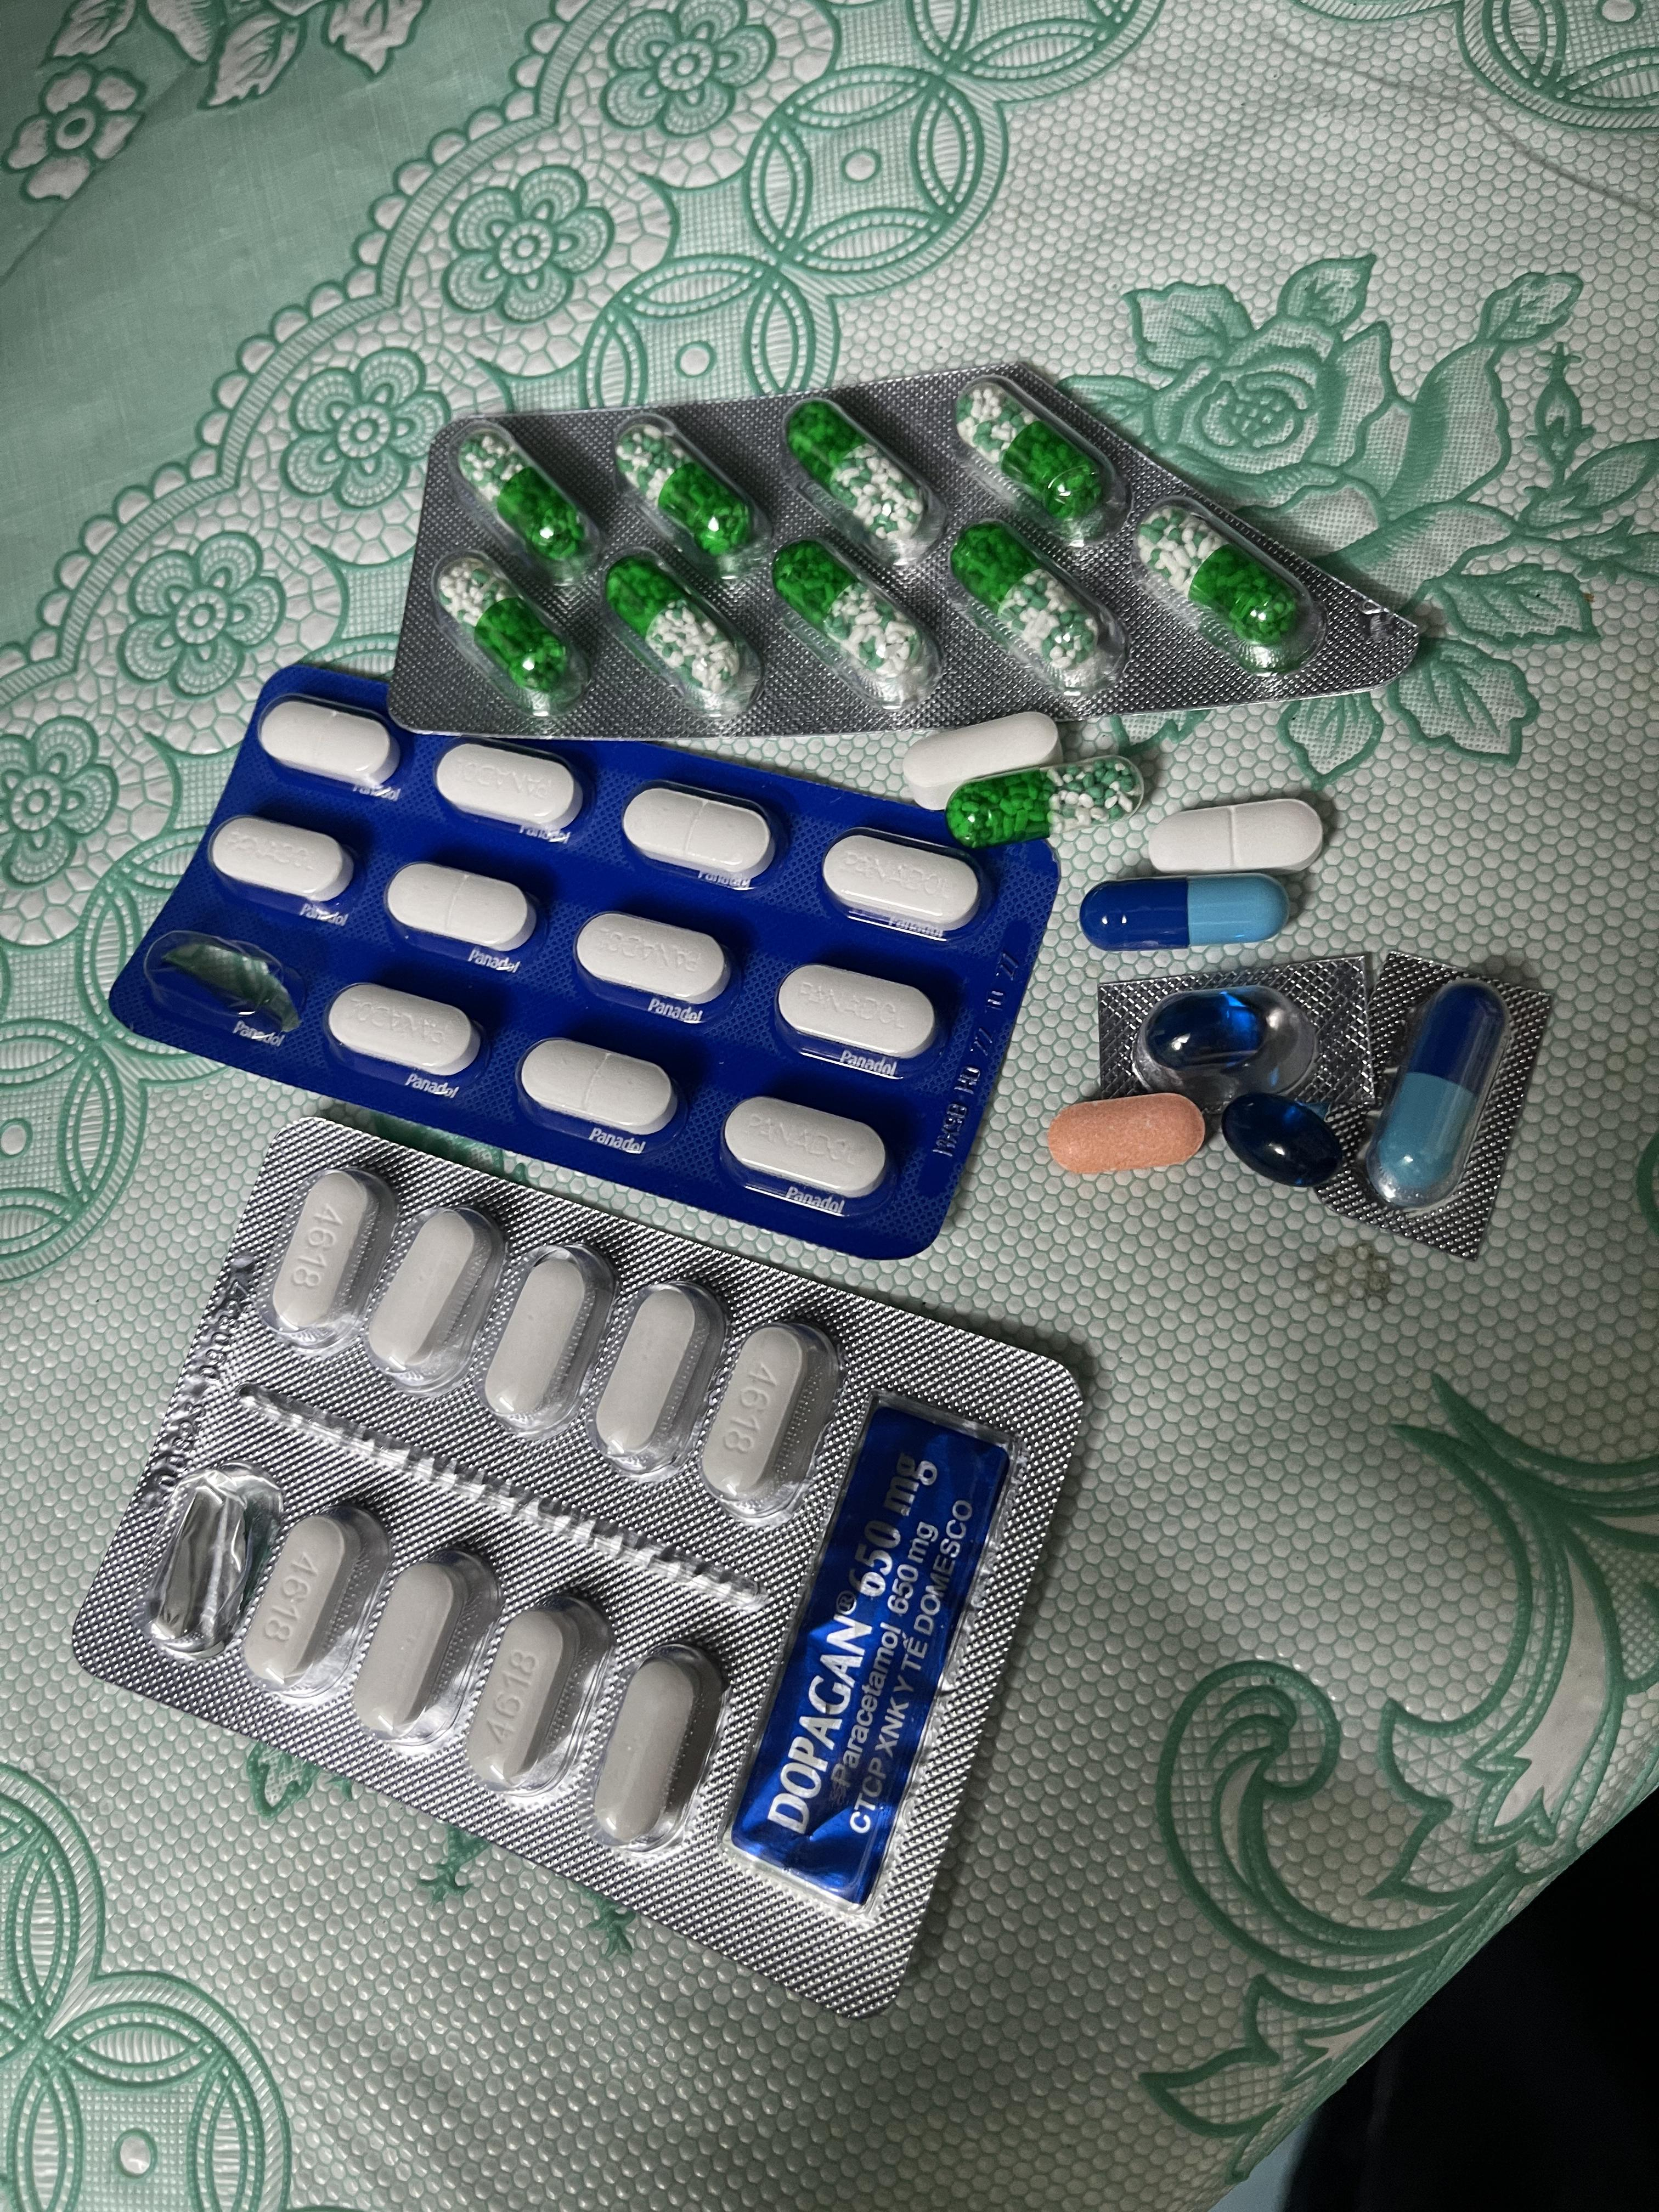Lincomyxin_500mg: (1220, 1089, 1345, 1186), (1143, 988, 1272, 1076)
Loratadine_10mg: (1047, 1090, 1197, 1176)
Paracetamol_350mg: (721, 1097, 887, 1202), (824, 831, 983, 934), (777, 963, 938, 1064), (519, 1038, 676, 1139), (575, 911, 728, 1008), (624, 786, 777, 881), (329, 982, 479, 1080), (1148, 796, 1321, 880), (436, 740, 580, 833), (387, 862, 530, 954), (211, 815, 352, 907), (260, 697, 399, 787)
Paracetamol_500mg: (350, 1545, 497, 1747), (471, 1592, 612, 1797), (242, 1503, 385, 1698), (699, 1317, 838, 1512), (591, 1644, 720, 1851), (591, 1284, 725, 1474), (481, 1249, 615, 1433), (364, 1209, 498, 1383), (267, 1172, 390, 1341), (901, 718, 1061, 810)
Paracetamol_650mg: (951, 507, 1127, 693), (598, 549, 756, 714), (1141, 507, 1298, 667), (772, 543, 931, 693), (788, 402, 927, 550), (962, 381, 1100, 526), (460, 430, 594, 575), (439, 554, 572, 700), (619, 423, 755, 564), (955, 752, 1141, 845)
pill: (1354, 979, 1509, 1216), (1096, 874, 1286, 951)
